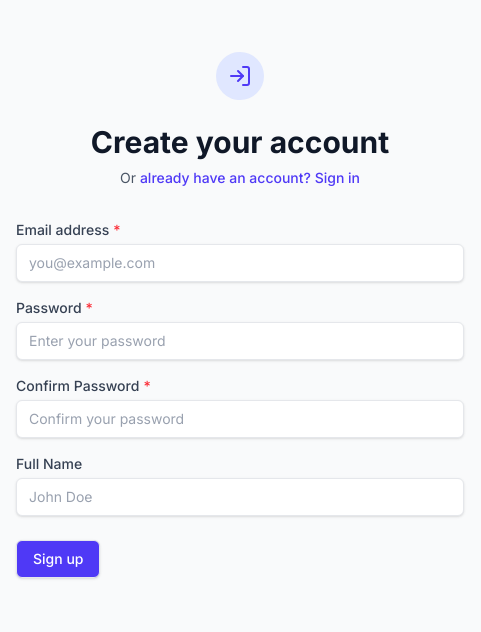
Test: RegisterPage › Validation Tests › displays error when password is too short
This screenshot has width=481, height=632.
Type "12345" into the password field labelled "Password*".
click(240, 341); type("12345")  # box [16,322,464,360]
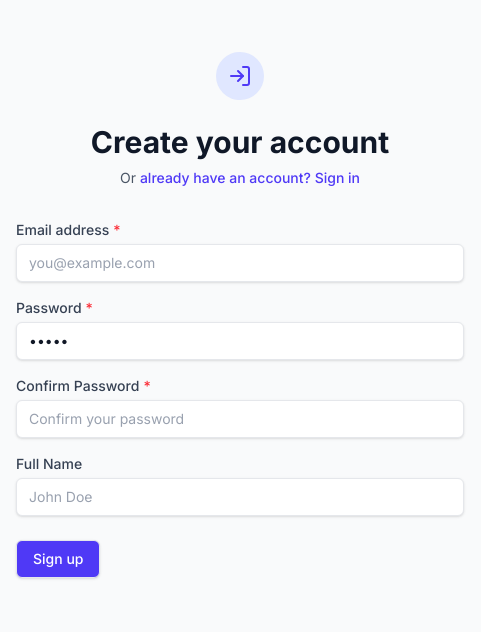
Click the button "Sign up".
click(58, 559)  # box [16,540,100,578]
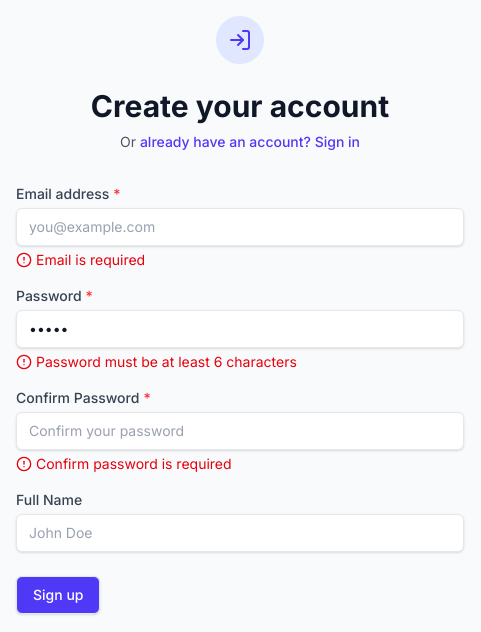
Expected: the text "Password must be at least 6 characters" is shown, [36,352,297,372]
